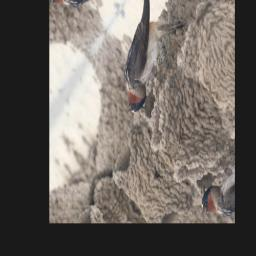Swallow: (90, 0, 192, 124)
